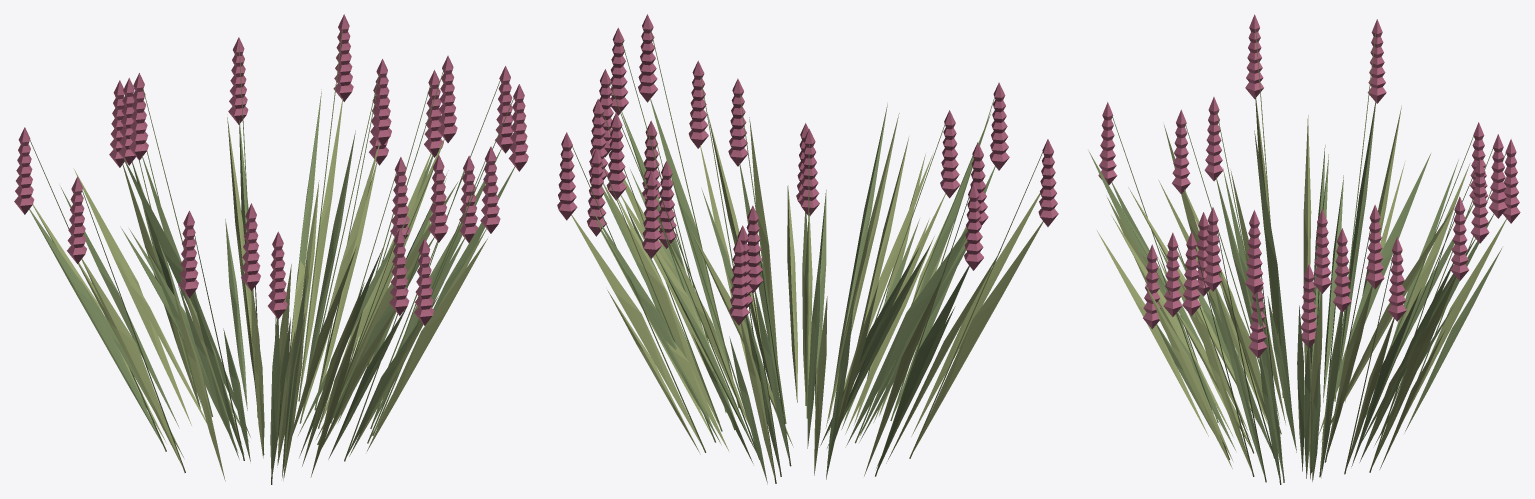
Rendered from Ornamental2.fbx.
The picture shows the model from 3 angles, left to right: view 1: azimuth 30°, elevation 25°; view 2: azimuth 150°, elevation 25°; view 3: azimuth 270°, elevation 25°; orthographic projection. The views are drawn at different scales.
Parts seen in each view (by area): view 1: Ornamental2_LOD0; view 2: Ornamental2_LOD0; view 3: Ornamental2_LOD0.
Part boxes in pixels (<box>): Ornamental2_LOD0: <box>14,14,528,484</box>; Ornamental2_LOD0: <box>557,14,1058,484</box>; Ornamental2_LOD0: <box>1088,14,1520,484</box>.
Size of what is drawn, in the model's own units: 158 by 117 by 138.
1 material, 1 textured.
